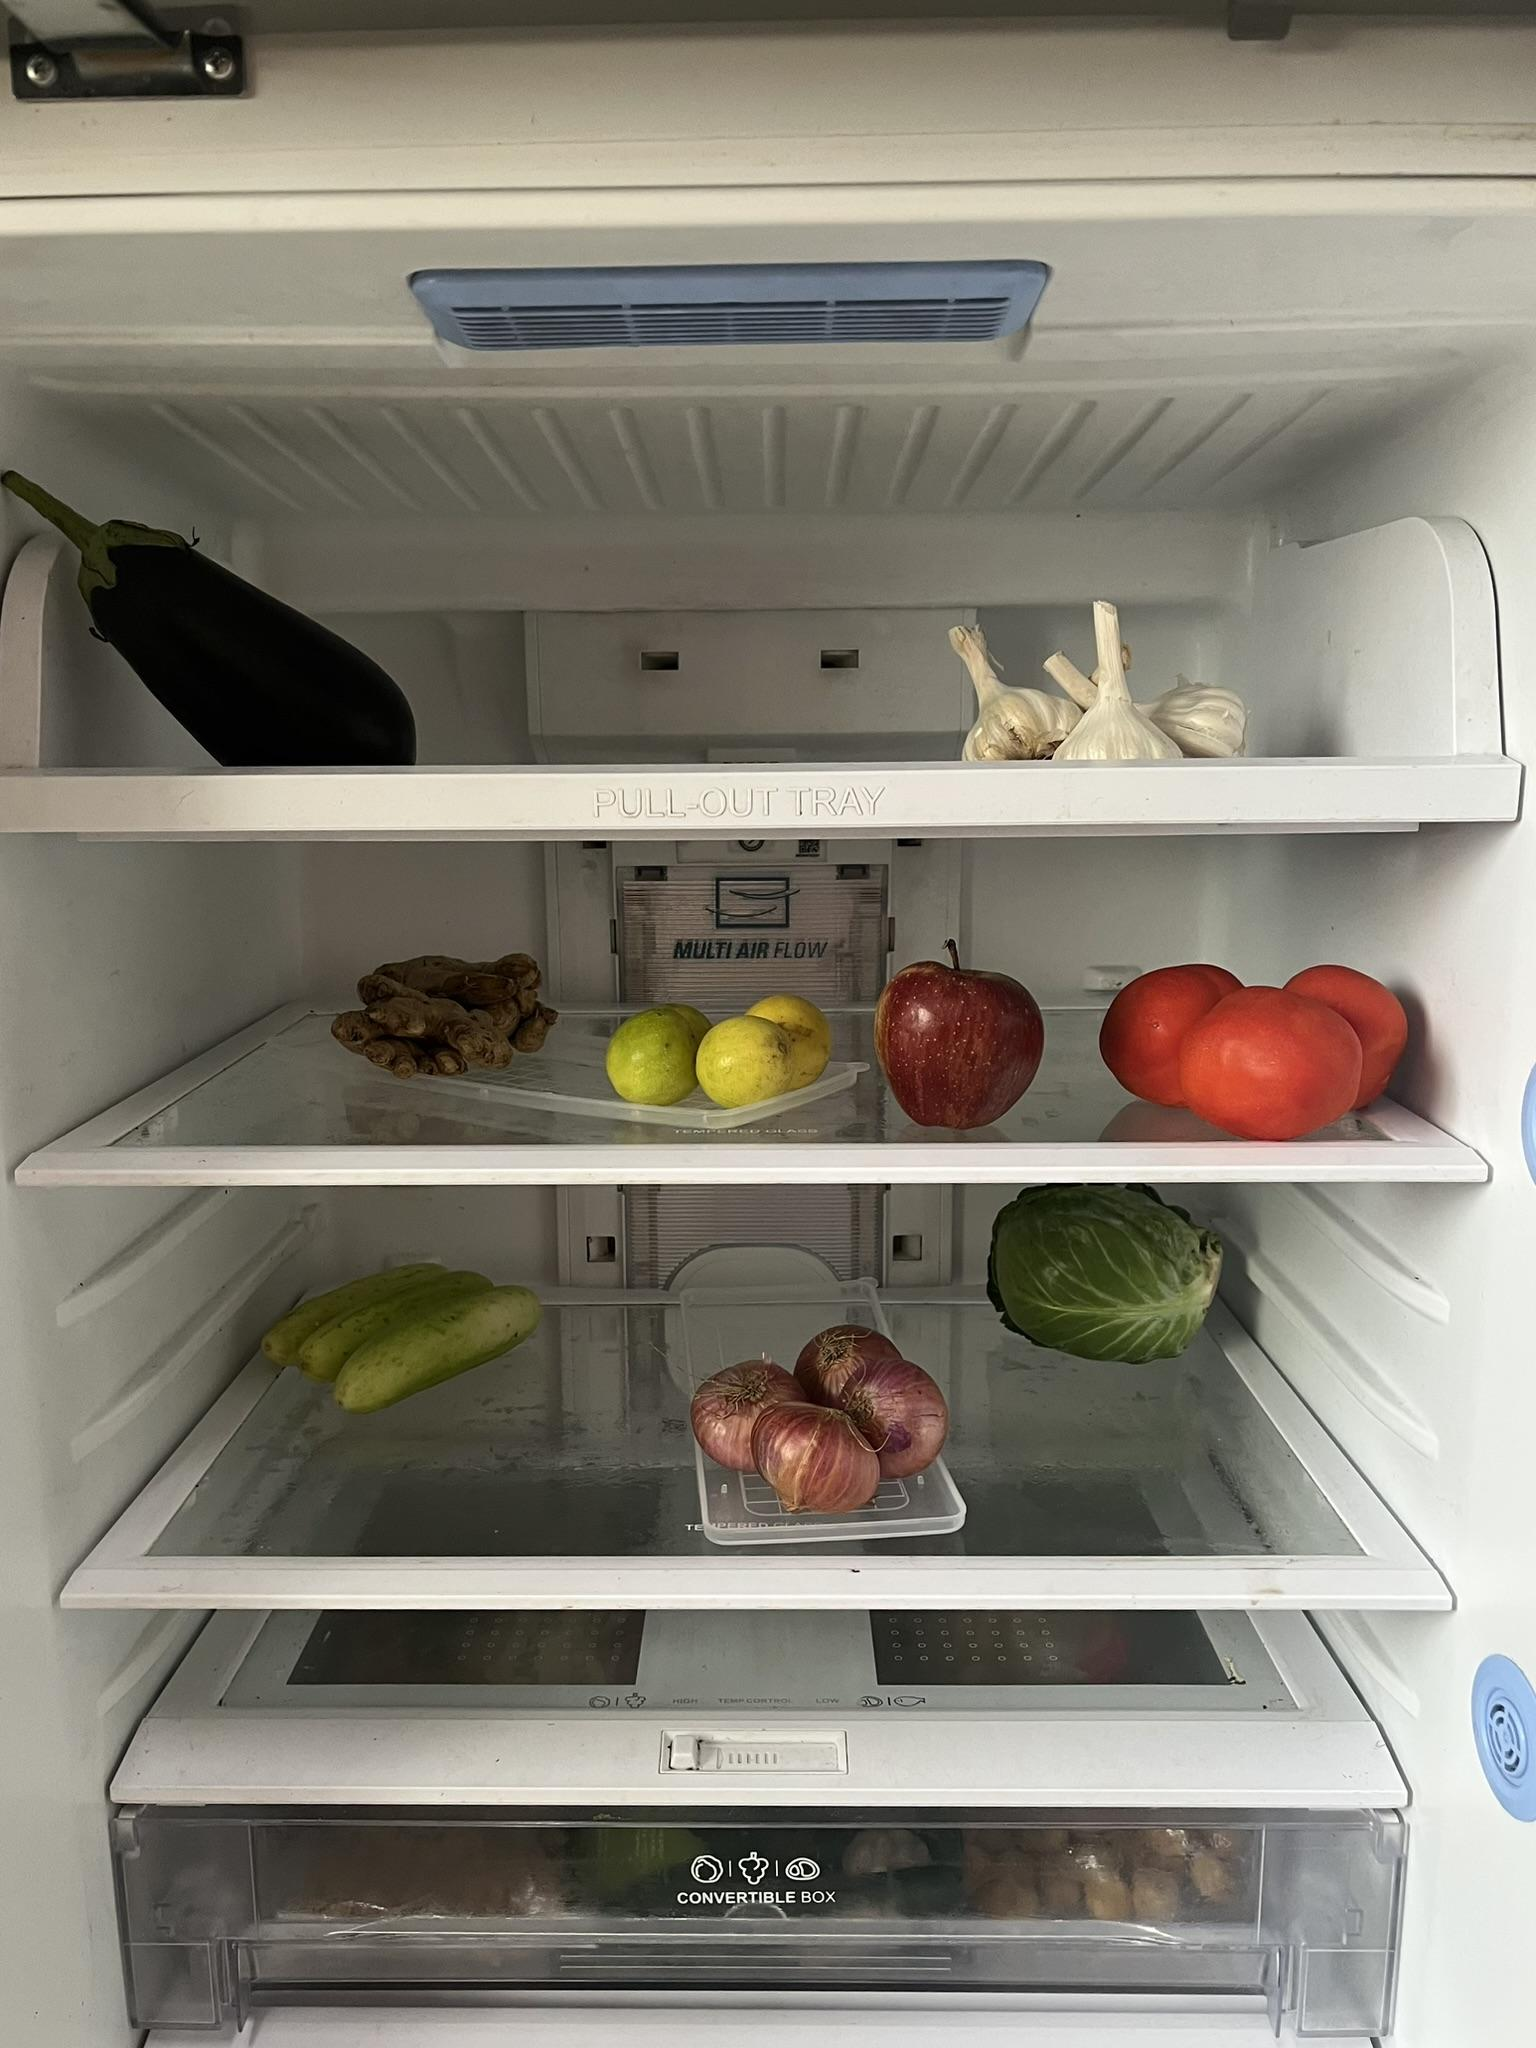apple: (868, 934, 1046, 1132)
bringal: (2, 455, 426, 766)
cabbage: (983, 1184, 1233, 1367)
cucumber: (265, 1258, 544, 1416)
garlic: (941, 593, 1250, 760)
ginger: (328, 948, 561, 1082)
lemon: (608, 990, 826, 1100)
onion: (684, 1314, 954, 1514)
tomato: (1099, 955, 1412, 1138)
